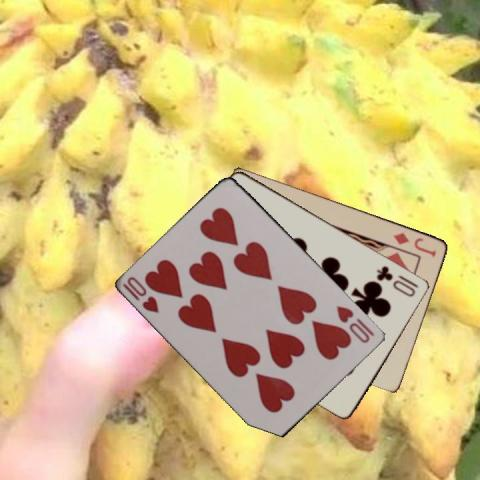10c: (373, 262, 420, 298)
10h: (334, 302, 377, 345), (120, 273, 161, 315)
Jd: (390, 229, 438, 259)
